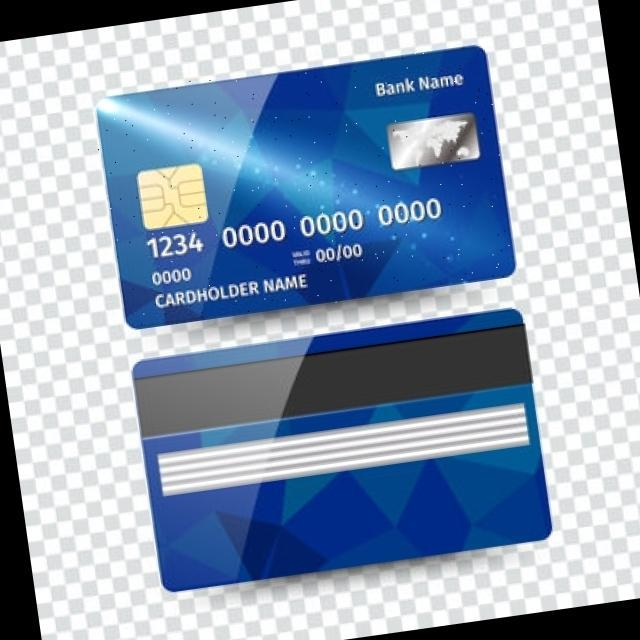payment_card: (94, 43, 517, 330), (131, 307, 553, 593)
